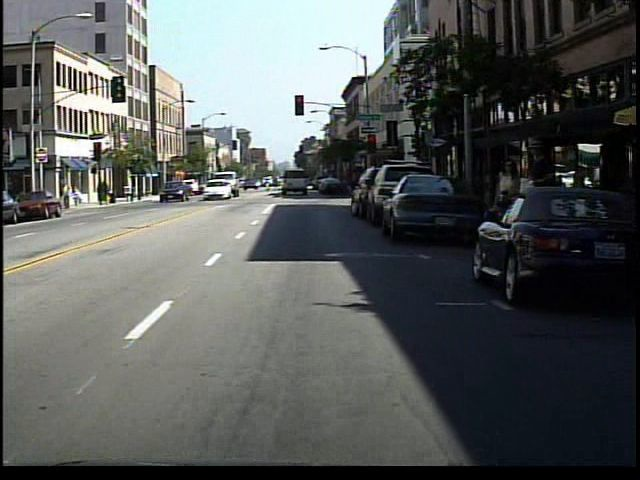person: (524, 135, 561, 266), (494, 155, 521, 261), (61, 180, 76, 213), (74, 183, 88, 209)
